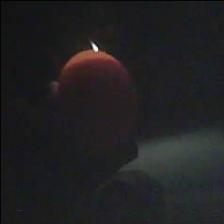fertile: (54, 48, 138, 146)
